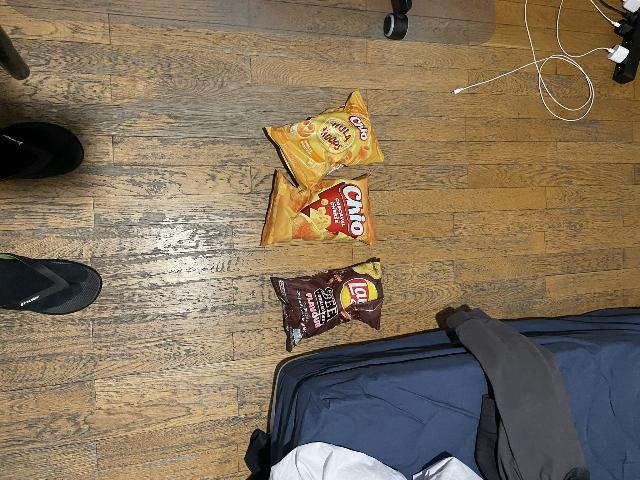Chio Cascaval 125g: (259, 168, 374, 247)
Chio Hula Hoops Cheese 70g: (264, 93, 384, 191)
Lays Beef Grilled Ribs 125g: (266, 261, 384, 344)
